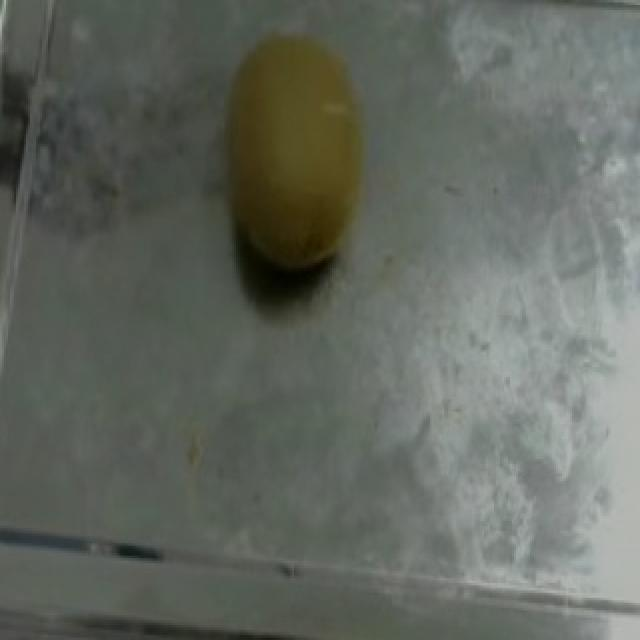Fruit: (190, 13, 390, 305)
